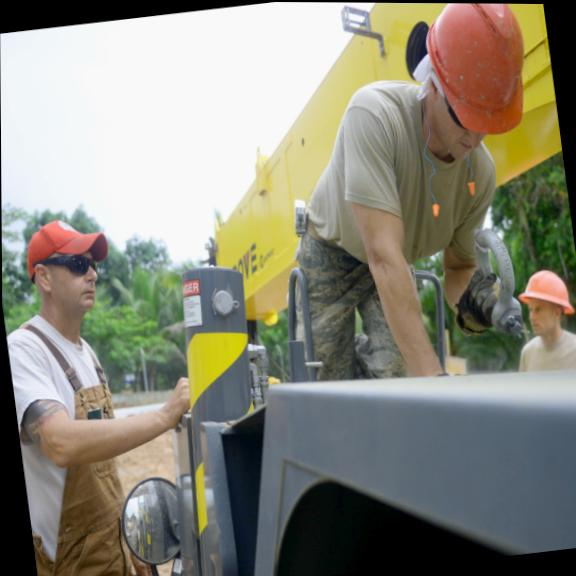no_safety_vest: (306, 59, 507, 288), (4, 307, 137, 562)
